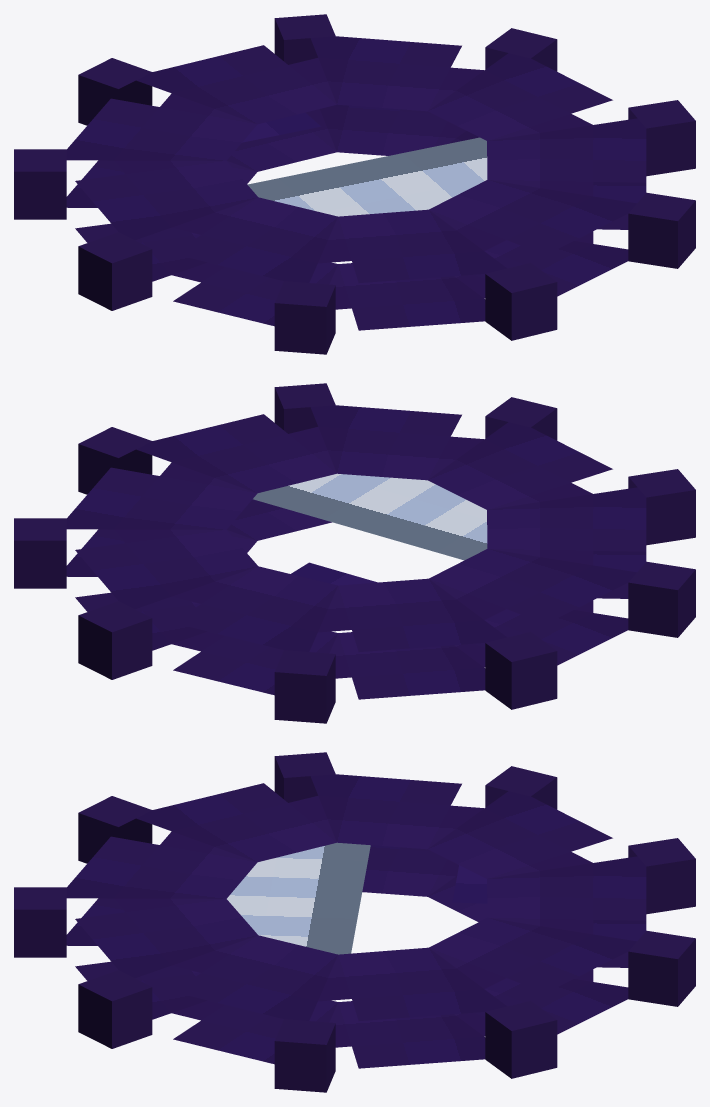
File: sprocket.obj
The picture shows the model from 3 angles, top to bottom: view 1: azimuth 30°, elevation 25°; view 2: azimuth 150°, elevation 25°; view 3: azimuth 270°, elevation 25°; orthographic projection.
Parts seen in each view (by area): view 1: gearCircle010, centerCoreCircle; view 2: gearCircle010, centerCoreCircle; view 3: gearCircle010, centerCoreCircle.
Boxes of the visible parts, box(x1,y1,x2,y2) form: gearCircle010: box(14, 14, 695, 354); centerCoreCircle: box(242, 112, 487, 216); gearCircle010: box(14, 383, 695, 723); centerCoreCircle: box(253, 473, 487, 585); gearCircle010: box(14, 752, 695, 1092); centerCoreCircle: box(227, 842, 487, 954).
Bounding box in the file's own units: 1.26 × 0.0962 × 1.25.
